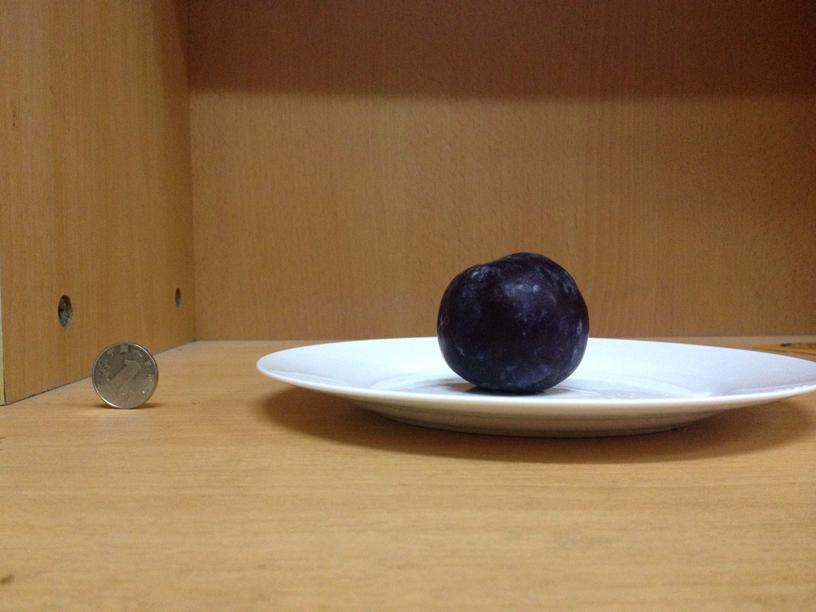coin: (89, 344, 162, 408)
plum: (439, 244, 583, 392)
